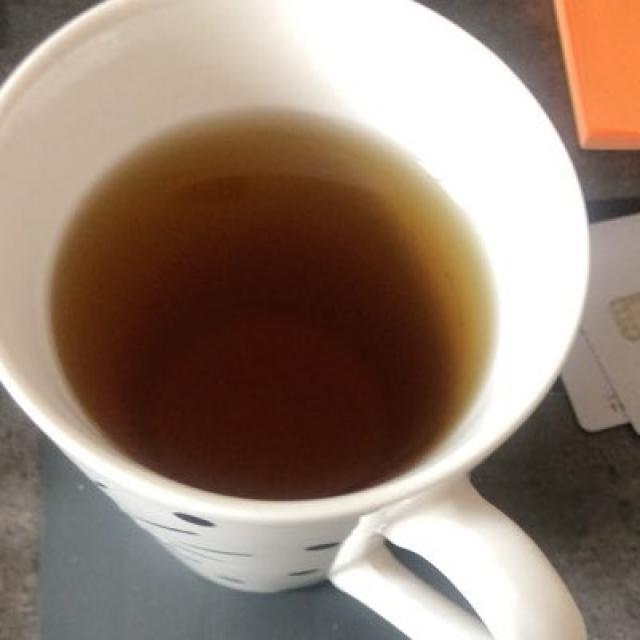tea: (52, 121, 486, 489)
